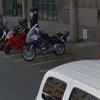Motorcycle: (15, 23, 73, 63)
